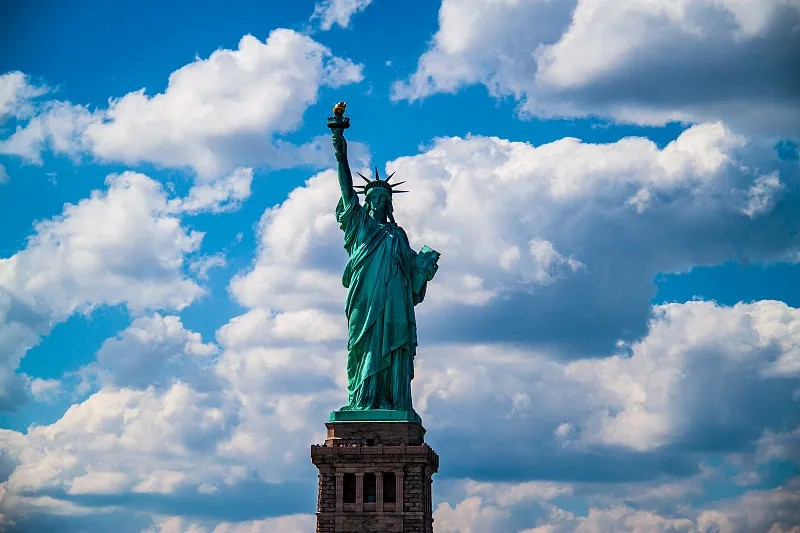SL: (309, 102, 439, 532)
